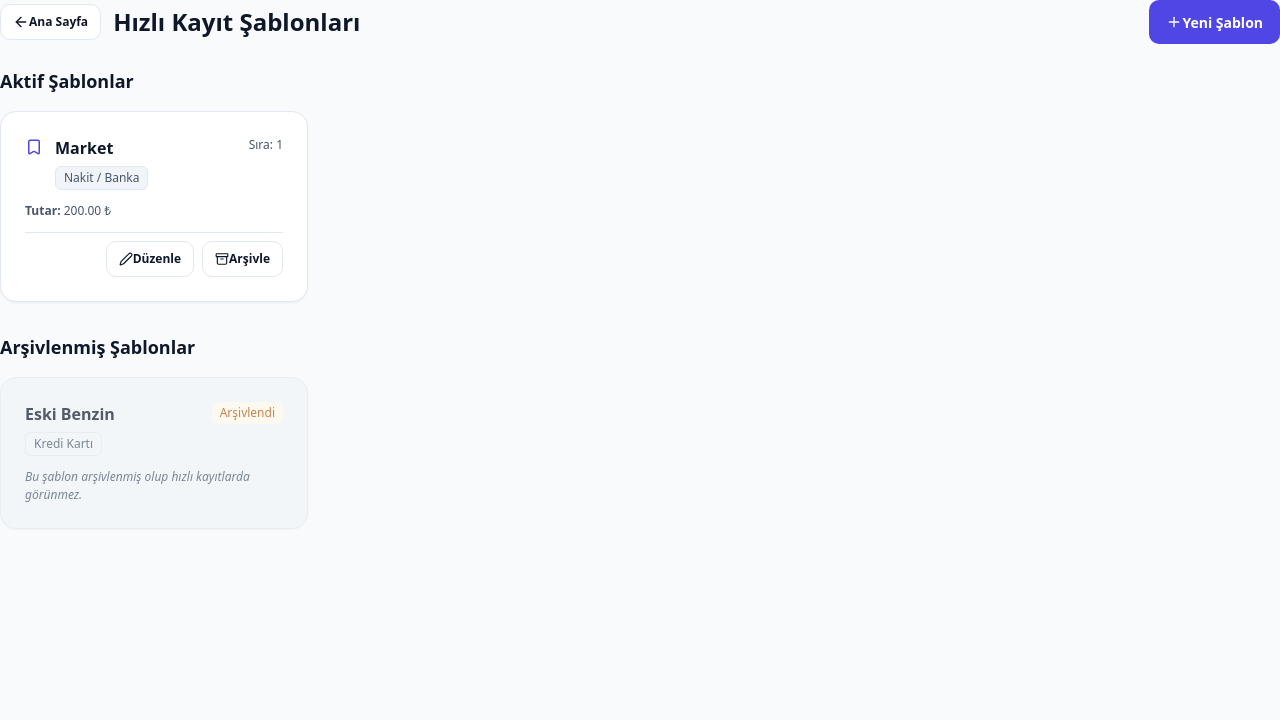
Test case: Template Management & Server Synchronization (Section 71-73) › R1 — AccessibleModal integration for Template Management › R1-A: Escape key closes the create modal
The image size is (1280, 720).
Expected: the heading "Market" is shown, [55,137,113,159]
Click the button with test id "create-template-btn" at {"x": 1215, "y": 22}, box [1149,0,1279,44]
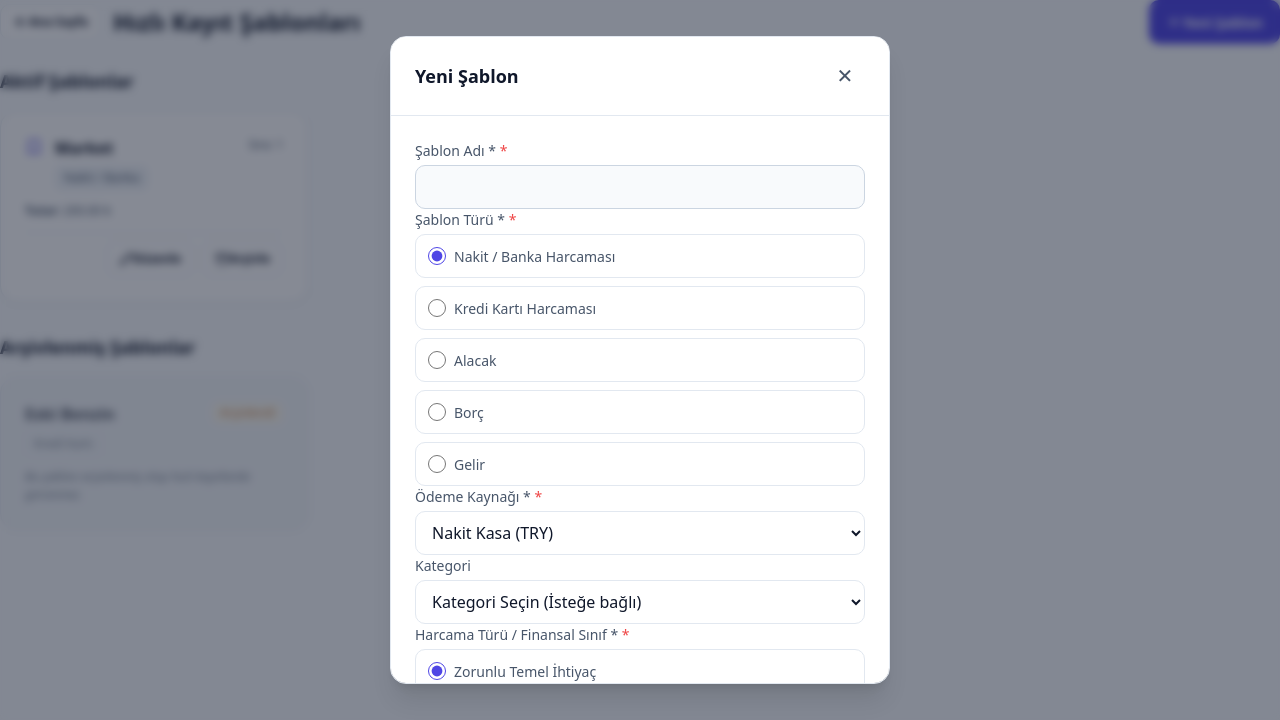
Expected: the dialog is shown, [390,36,890,684]
# press Escape
Press Escape
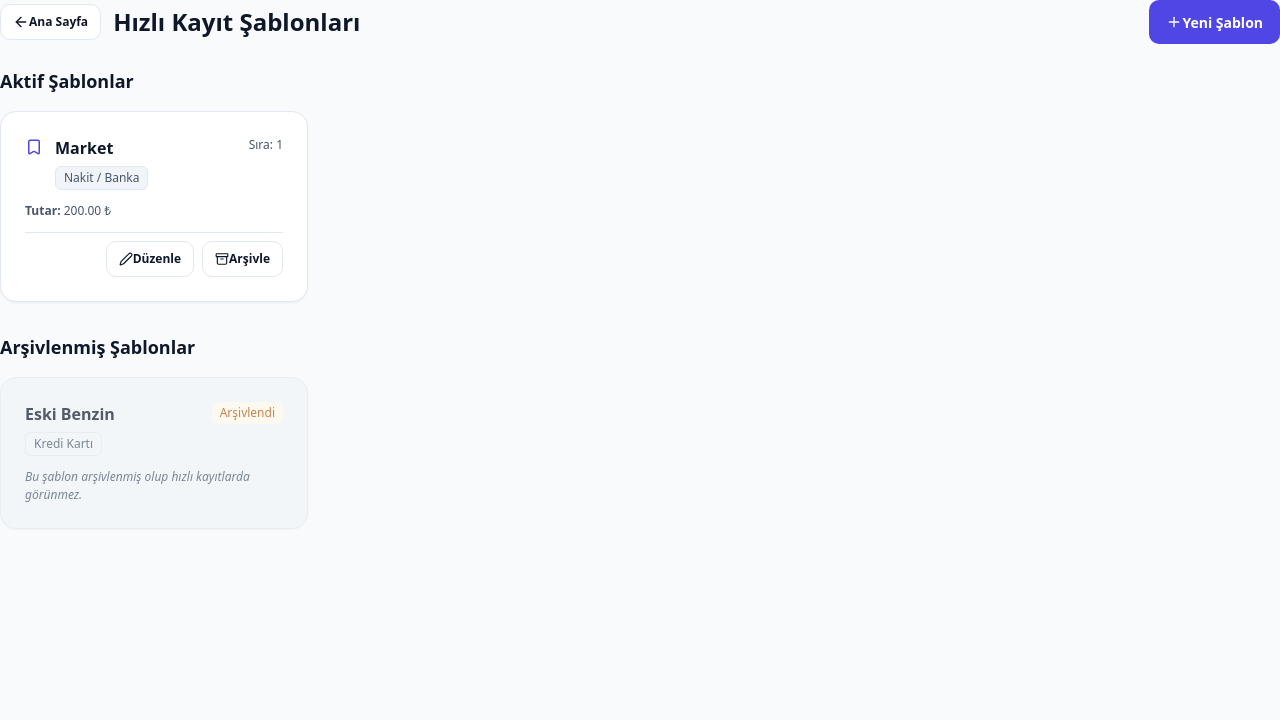
Expected: the dialog is gone
